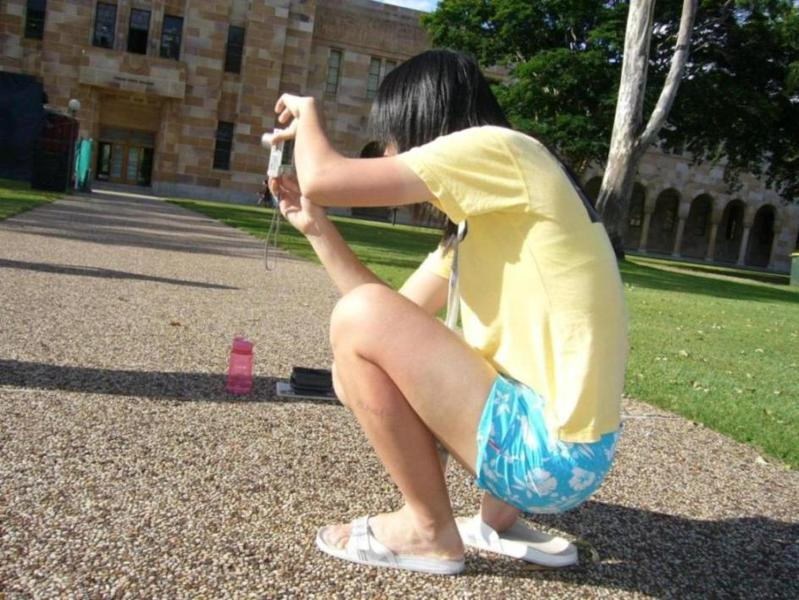person: (268, 51, 629, 573)
